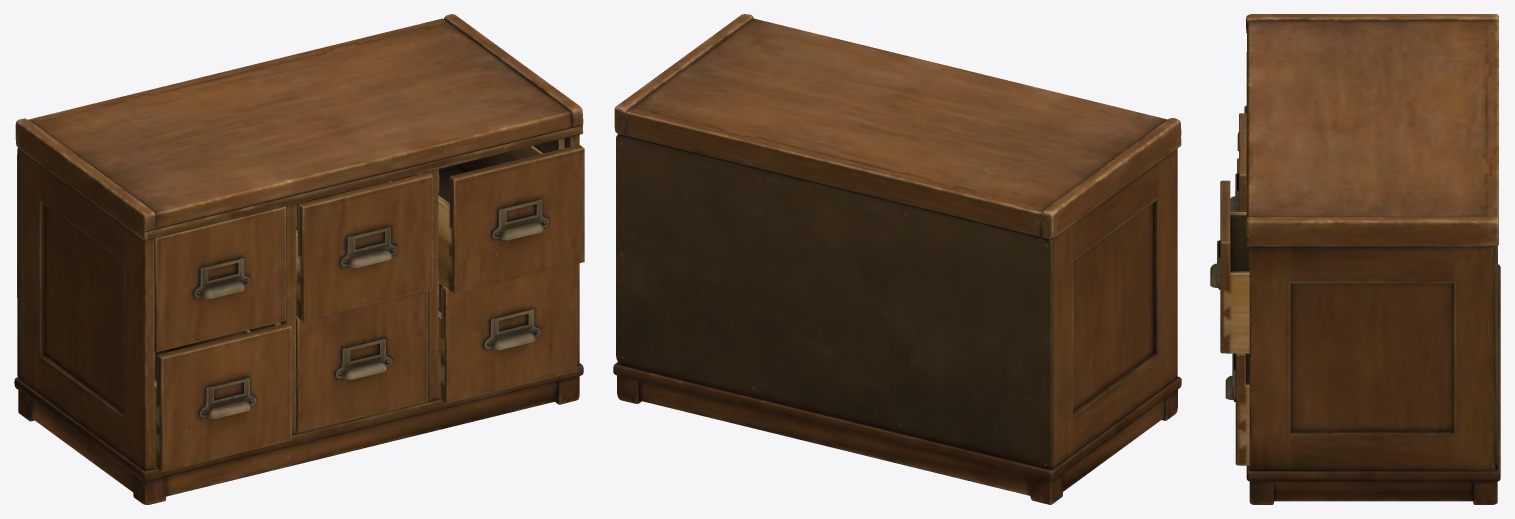
The model's file is vintage_wooden_drawer_01.glb.
3 renders of one model, left to right at view 1: azimuth 30°, elevation 25°; view 2: azimuth 150°, elevation 25°; view 3: azimuth 270°, elevation 25°, orthographic. The views are drawn at different scales.
Parts seen in each view (by area): view 1: vintage_wooden_drawer_01_body; view 2: vintage_wooden_drawer_01_body; view 3: vintage_wooden_drawer_01_body.
Part boxes in pixels (bbox=[...]): vintage_wooden_drawer_01_body: bbox=[14, 14, 584, 504]; vintage_wooden_drawer_01_body: bbox=[613, 14, 1181, 504]; vintage_wooden_drawer_01_body: bbox=[1210, 14, 1500, 504].
Size of the model in its own units: 1.72 by 1.09 by 1.01.
1 material, 1 textured.
